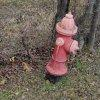a fire hydrant: (51, 6, 78, 82)
